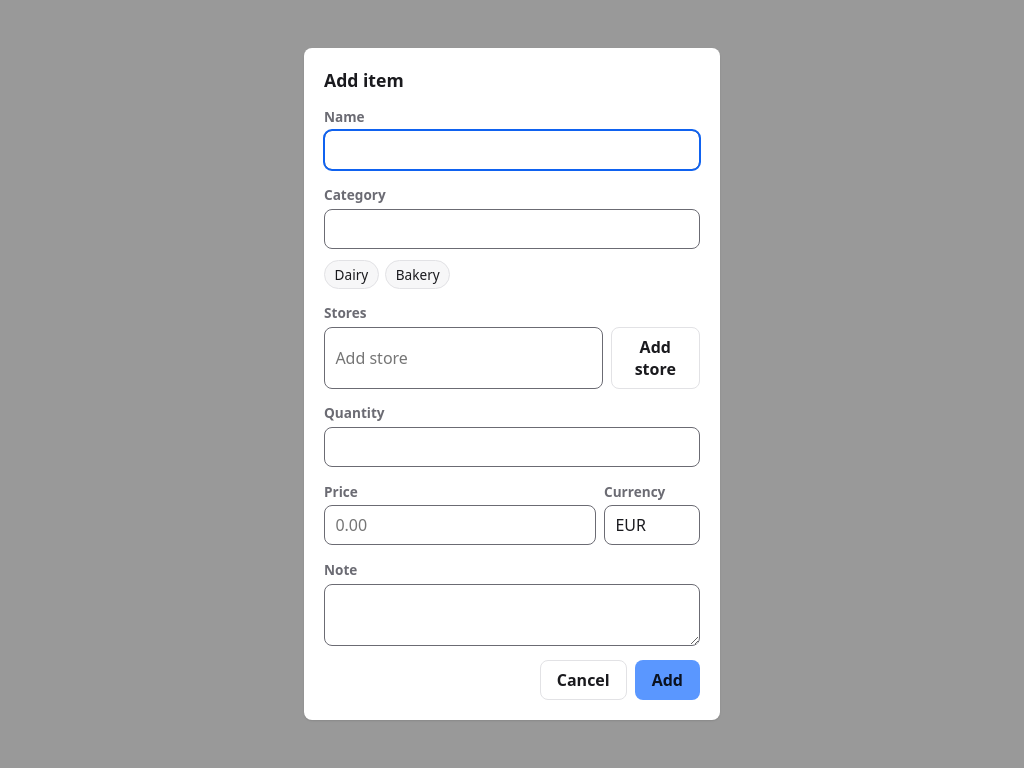
ItemDialog (add mode) › offers category chips and clicking one fills the field (T-108)
The width and height of the screenshot is (1024, 768).
Type "da" into the field labelled "Category".
click(512, 229); type("da")  # box [324,209,700,249]
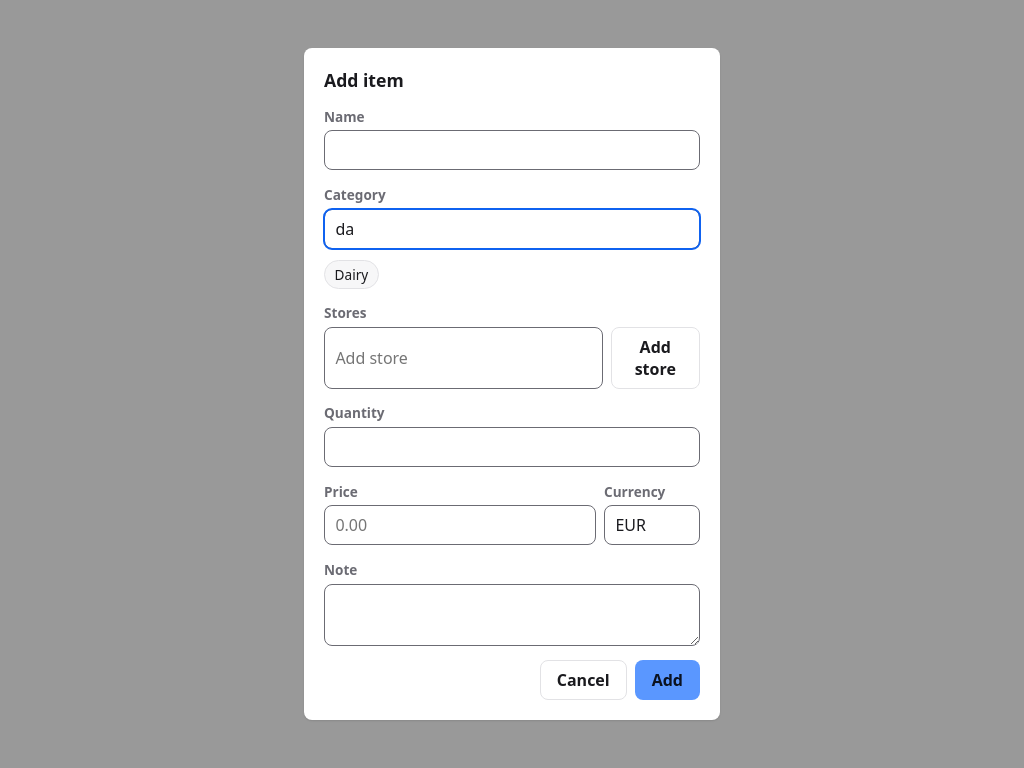
Expected: the button "Bakery" is gone
Click the button "Dairy".
click(351, 274)  # box [324,260,379,289]
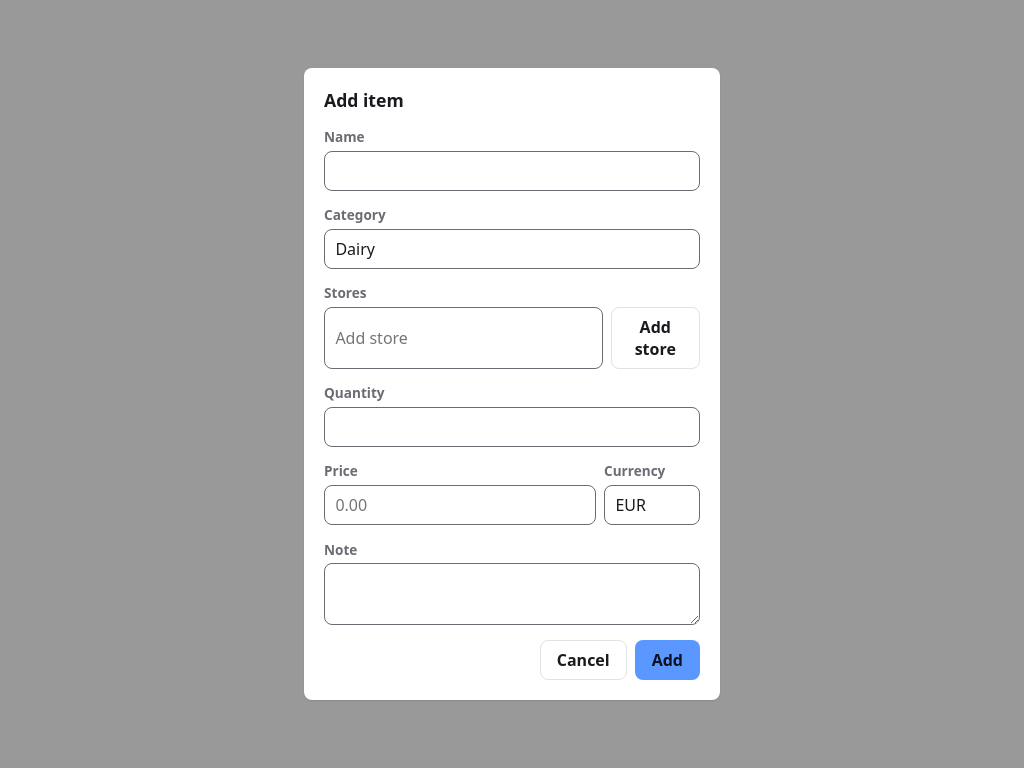
Expected: the field labelled "Category" holds "Dairy", [324,229,700,269]
